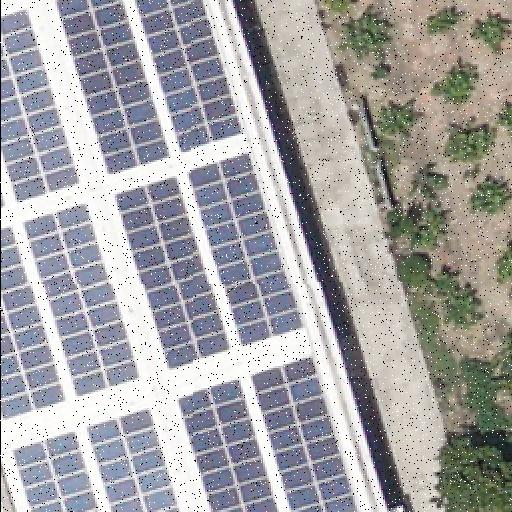solar-panel: (110, 176, 234, 372), (22, 201, 142, 399), (188, 154, 304, 350), (52, 0, 172, 176), (136, 0, 244, 154), (251, 356, 357, 512), (0, 9, 80, 207), (176, 376, 280, 512), (0, 226, 64, 422), (84, 408, 180, 512), (11, 432, 101, 512), (1, 190, 7, 210)
